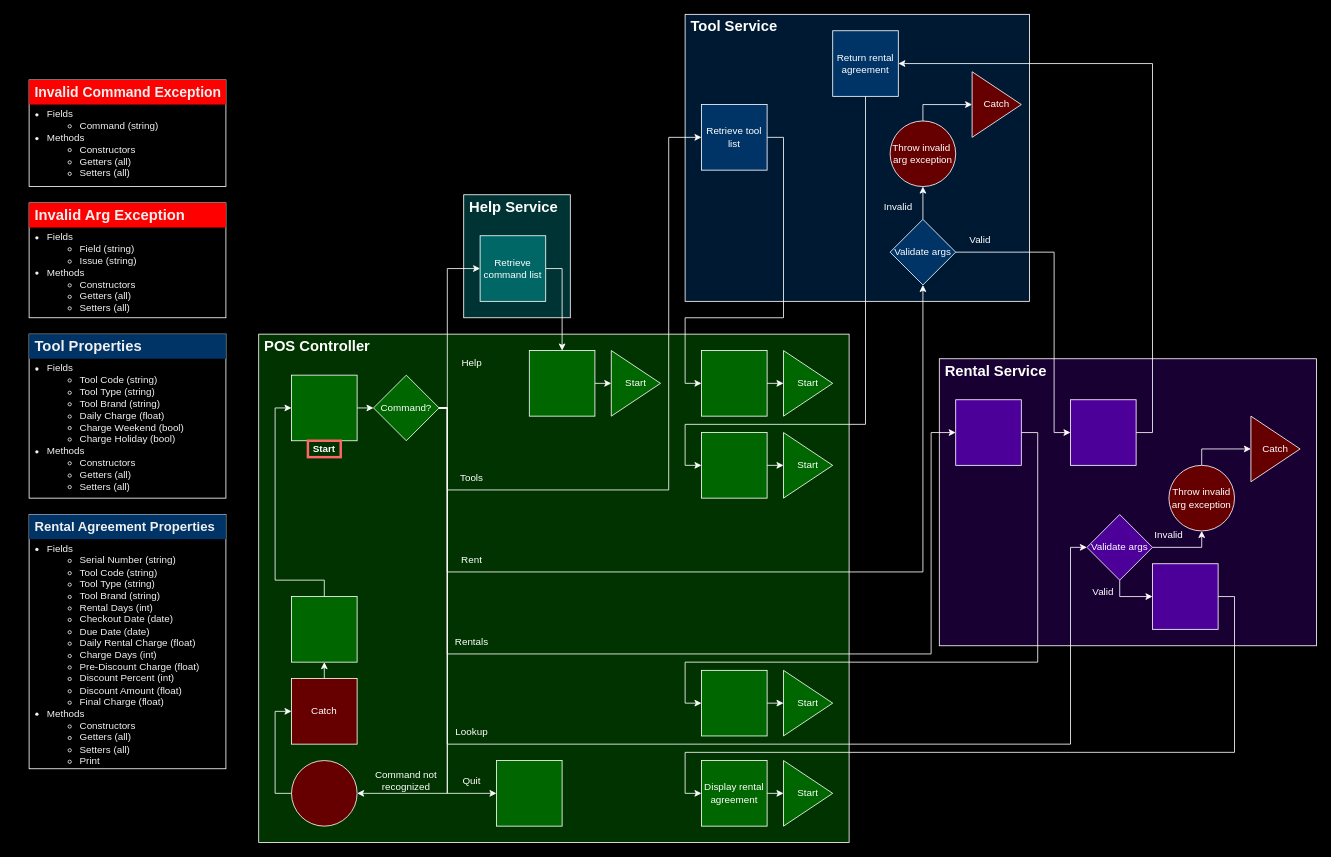
This 1331x857 diagram has some shape labels left out. The shapes that lost their labels are listed below. From the top down, each one's box as (x1, y1, x2, y2) in pixels, then its label:
(528, 350, 595, 416): Display command list.
(701, 350, 767, 416): Display tool list.
(291, 374, 357, 441): Listen for user input.
(955, 399, 1021, 465): Retrieve rental list
(1070, 399, 1136, 465): Generate rental agreement
(701, 432, 767, 498): Display new rental agreement
(1152, 563, 1218, 629): Retrieve rental agreement
(291, 596, 357, 662): Display error message.
(701, 670, 767, 736): Display rental list.
(291, 760, 357, 826): Throw invalid command exception
(496, 760, 562, 826): End program
